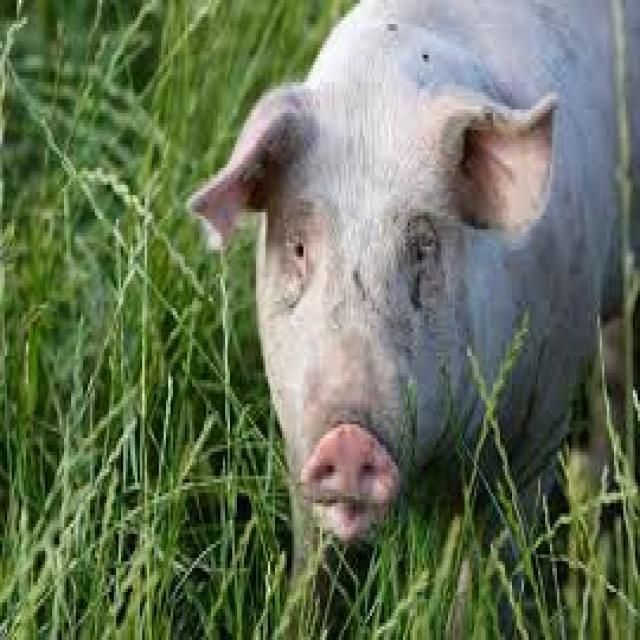Pig: (189, 1, 640, 546)
